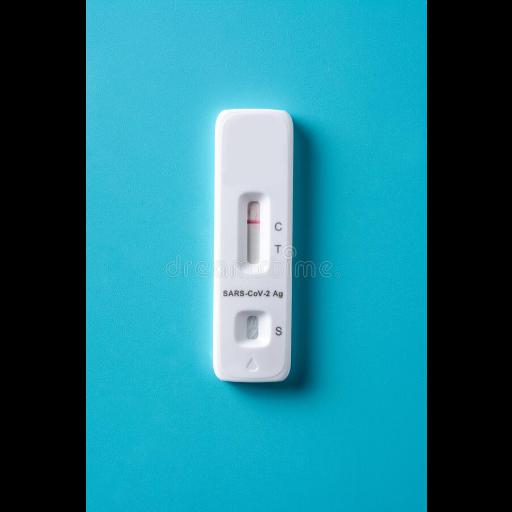Neg: (216, 110, 290, 380)
